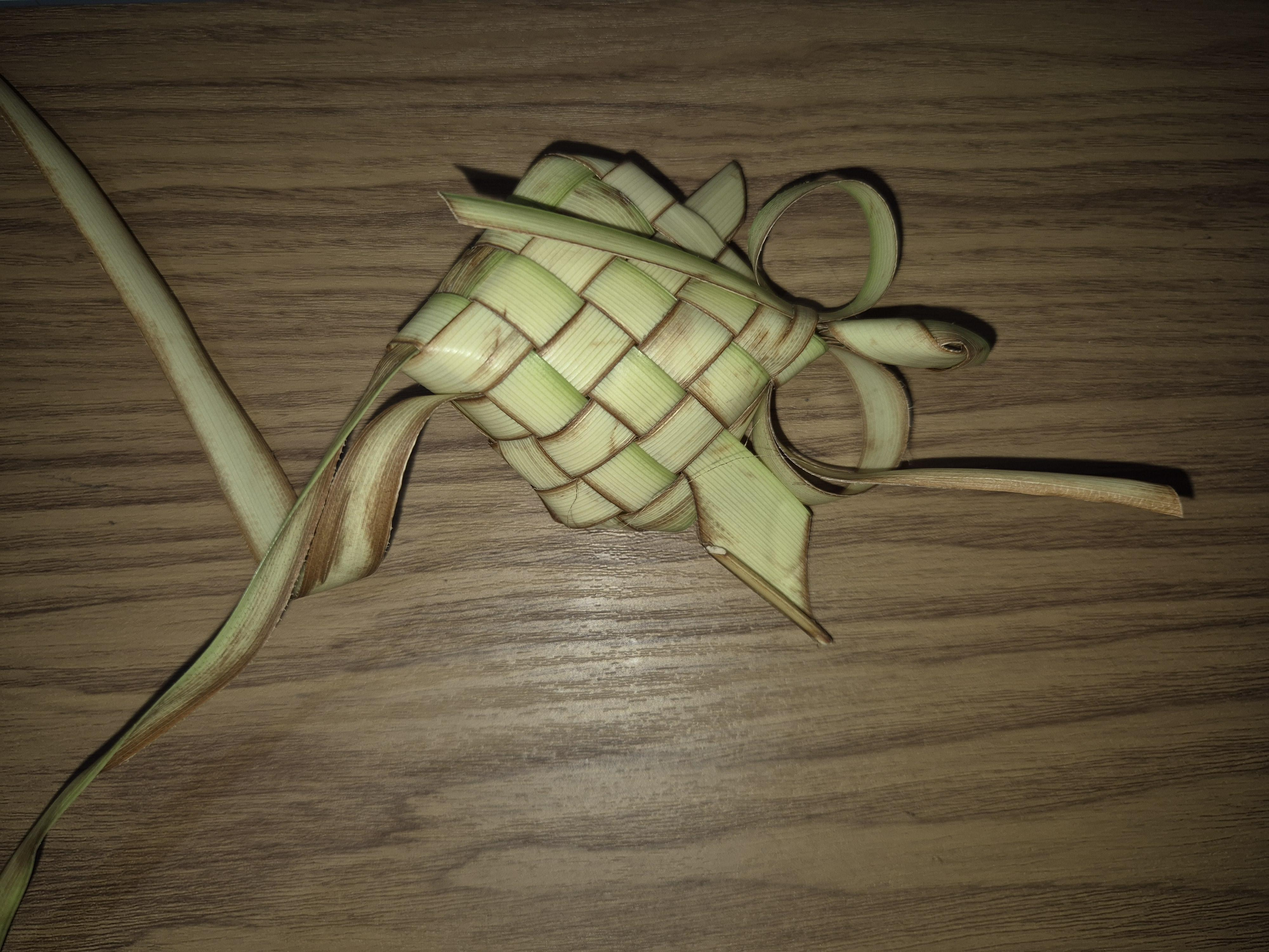Tipat Dampulan: (412, 299, 1063, 887)
